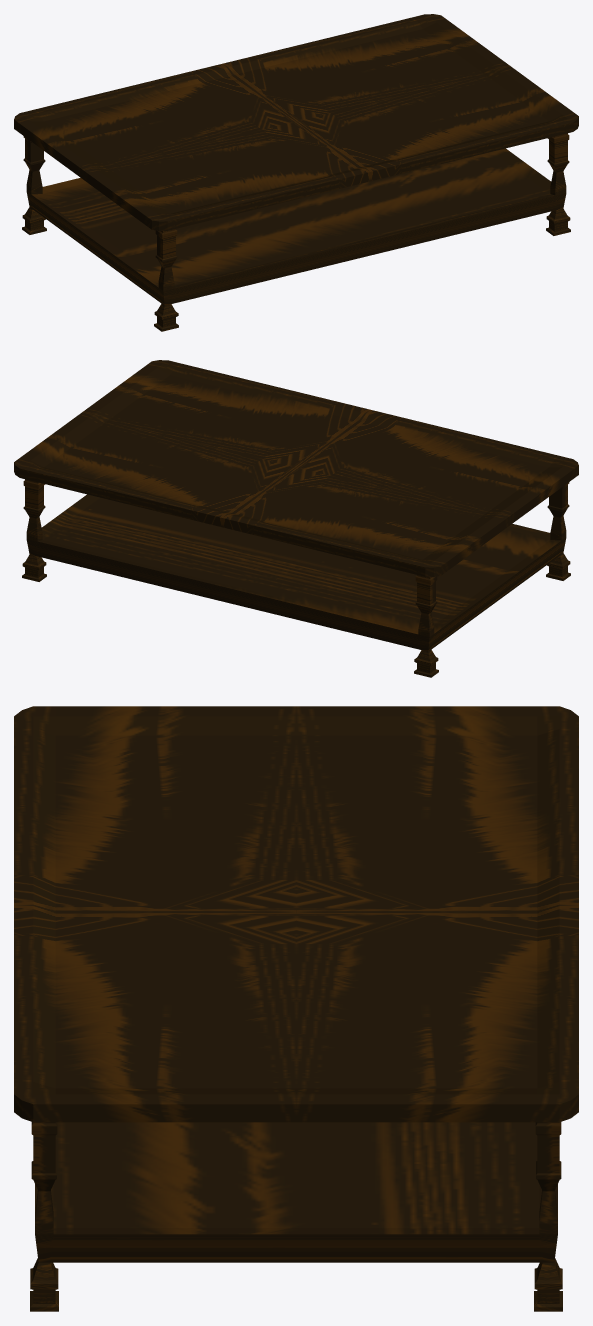
File: MESH_LivingTable.fbx
The picture shows the model from 3 angles, top to bottom: view 1: azimuth 30°, elevation 25°; view 2: azimuth 150°, elevation 25°; view 3: azimuth 270°, elevation 25°; orthographic projection. The views are drawn at different scales.
Visible parts, largest first — view 1: Living_Table; view 2: Living_Table; view 3: Living_Table.
Part boxes in pixels (x1,y1,x2,y2): Living_Table: (14,14,578,331); Living_Table: (14,360,578,677); Living_Table: (14,706,578,1311).
Size of the model in its own units: 200 by 50.91 by 120.
